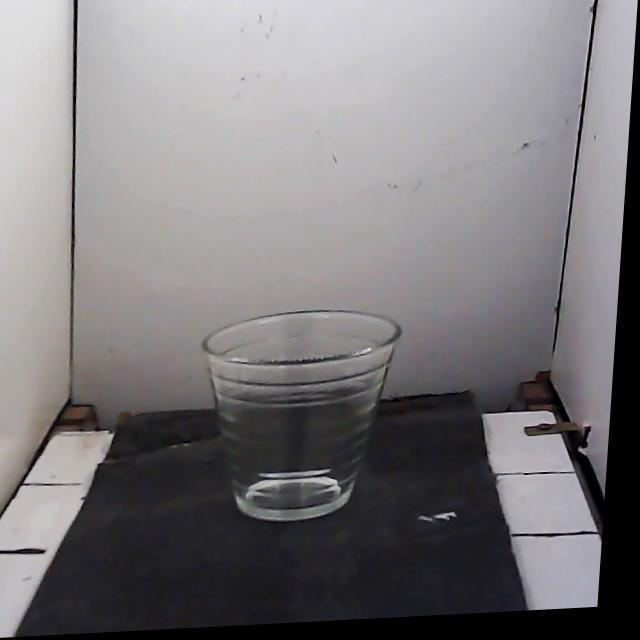vidro: (203, 311, 400, 521)
